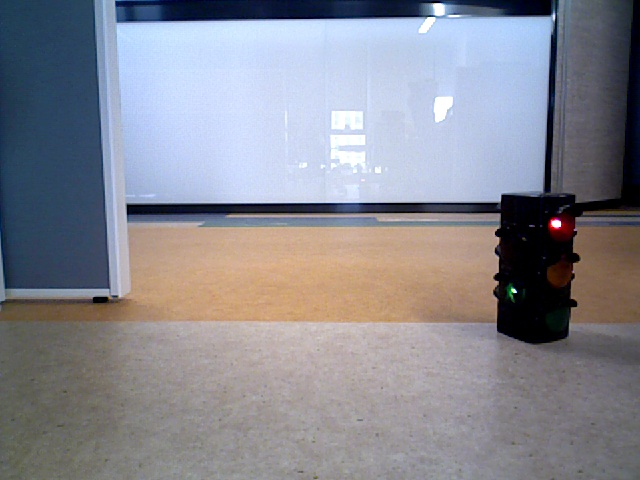red: (500, 195, 570, 336)
